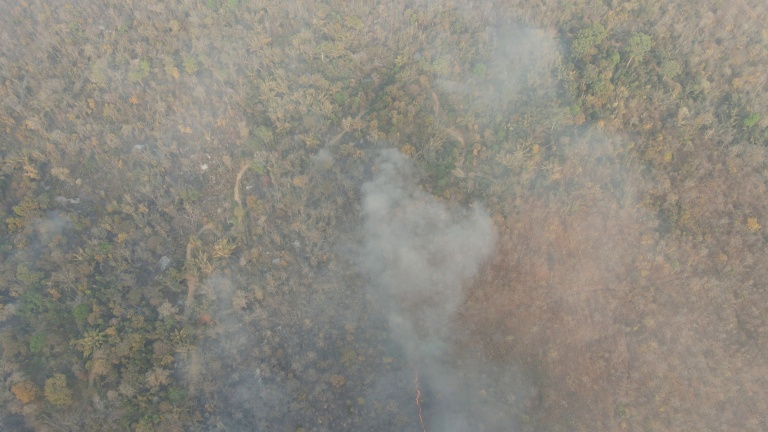fire: (406, 365, 434, 432)
smoke: (359, 162, 482, 364), (458, 22, 560, 118)
